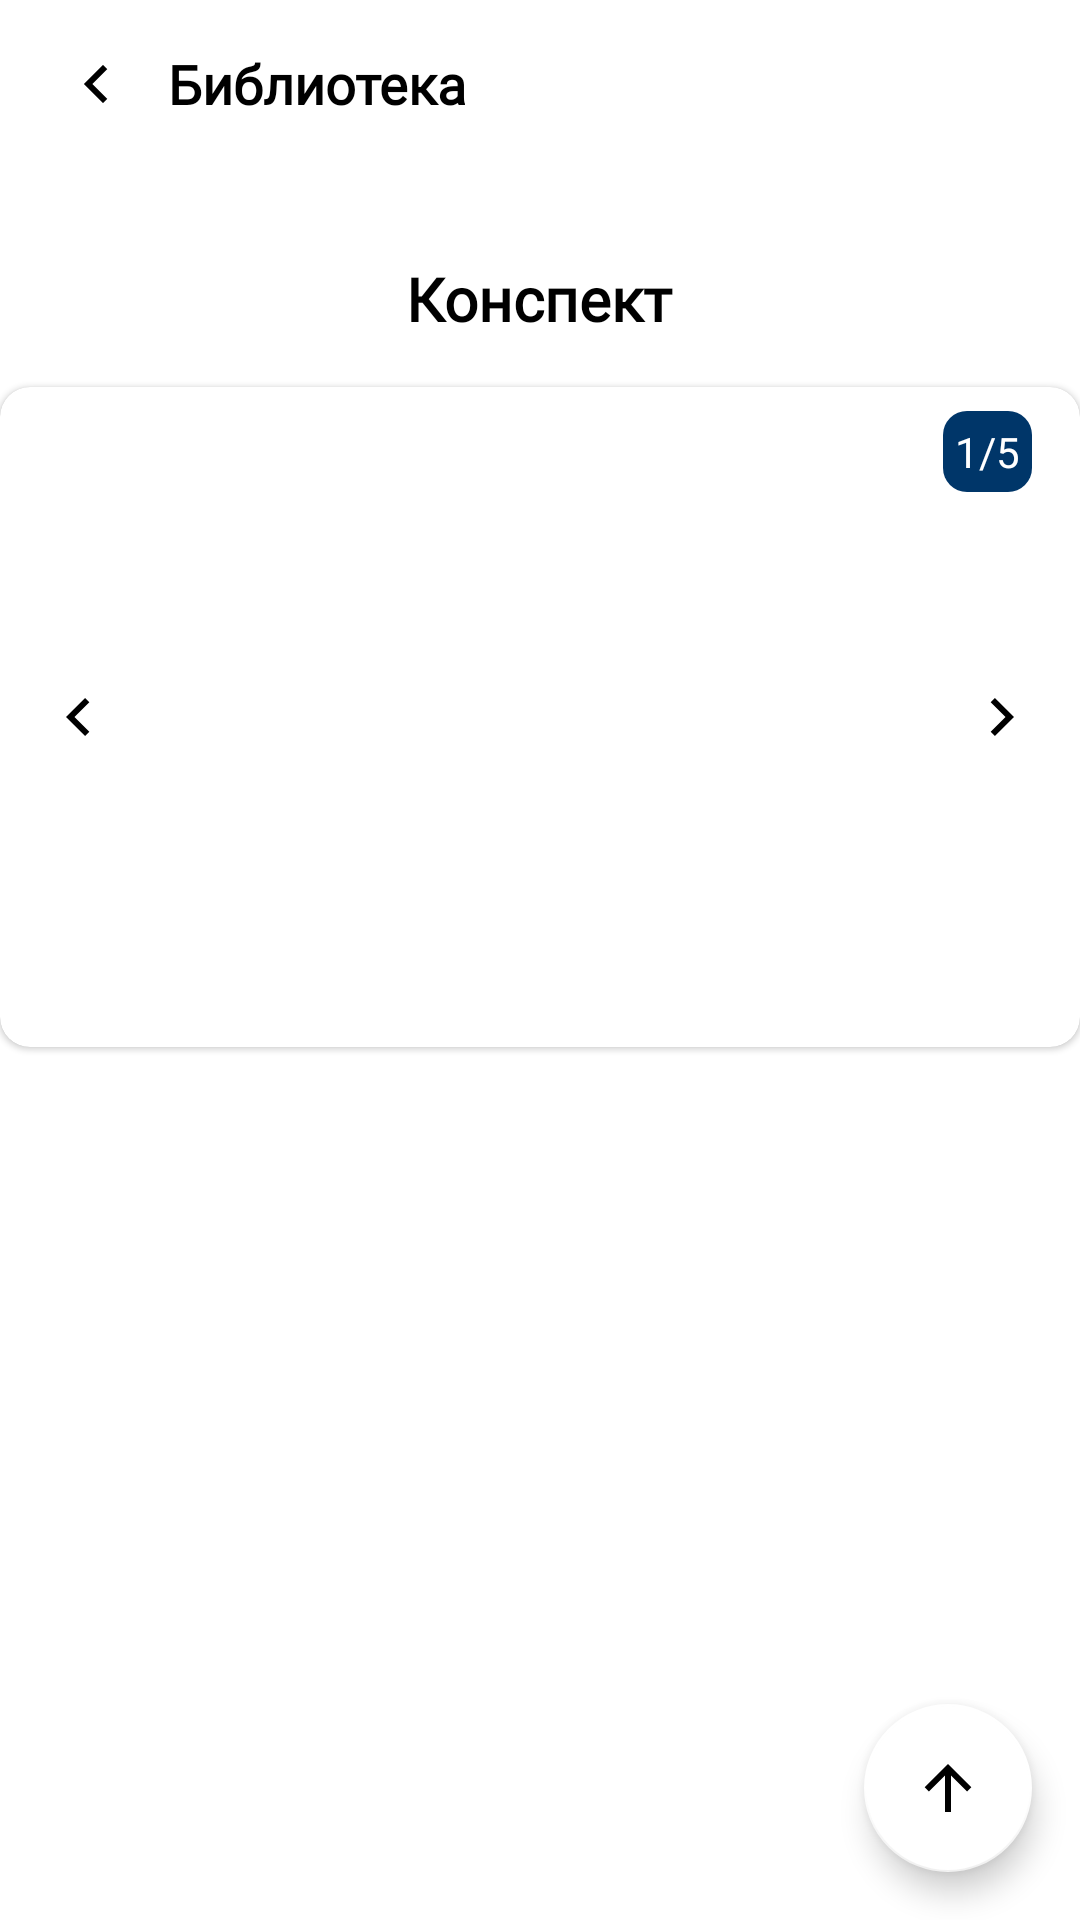

Icon click points for this 1080×1920 phone screenshot, format (x=x, y=y):
arrow left: (x=95, y=84)
arrow up: (x=950, y=1818)
